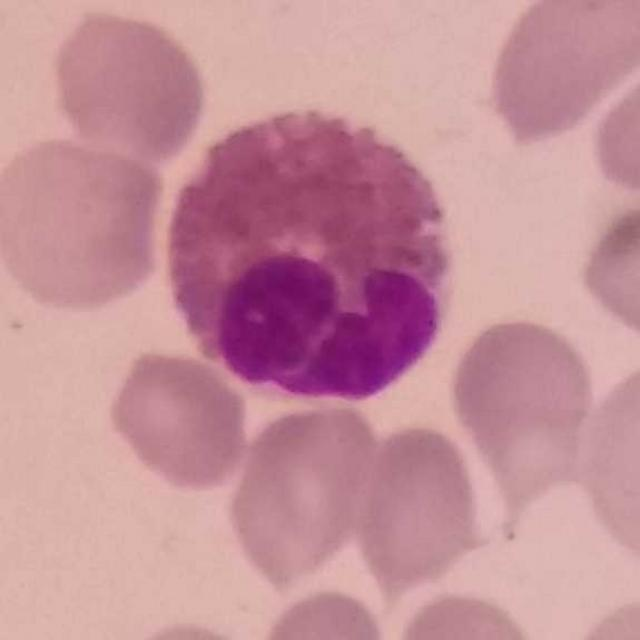Eosinophil: (156, 100, 453, 408)
RBC: (0, 130, 171, 317), (221, 394, 382, 589), (43, 3, 214, 165), (443, 310, 600, 482), (349, 419, 491, 593), (481, 0, 639, 148), (102, 345, 254, 495), (576, 350, 640, 572), (572, 191, 640, 352), (585, 38, 640, 209), (386, 585, 548, 640), (253, 583, 393, 640), (102, 614, 275, 640), (561, 589, 640, 640)
